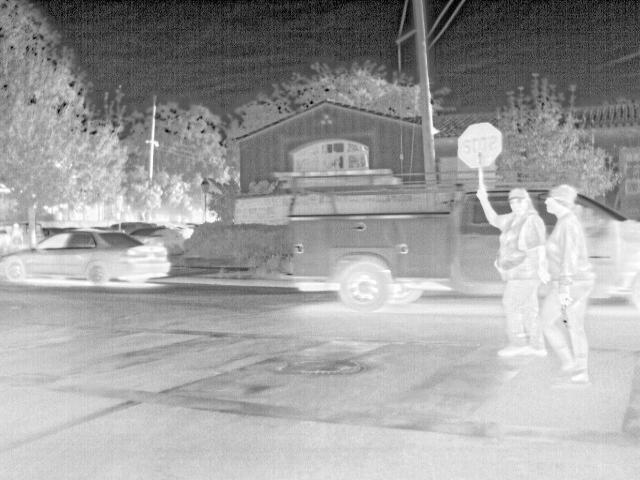car: (283, 188, 486, 312), (0, 226, 173, 285), (597, 194, 637, 313), (130, 225, 185, 248), (184, 223, 197, 237), (37, 226, 53, 236), (121, 223, 134, 234)
person: (543, 186, 595, 384), (492, 188, 539, 360)
